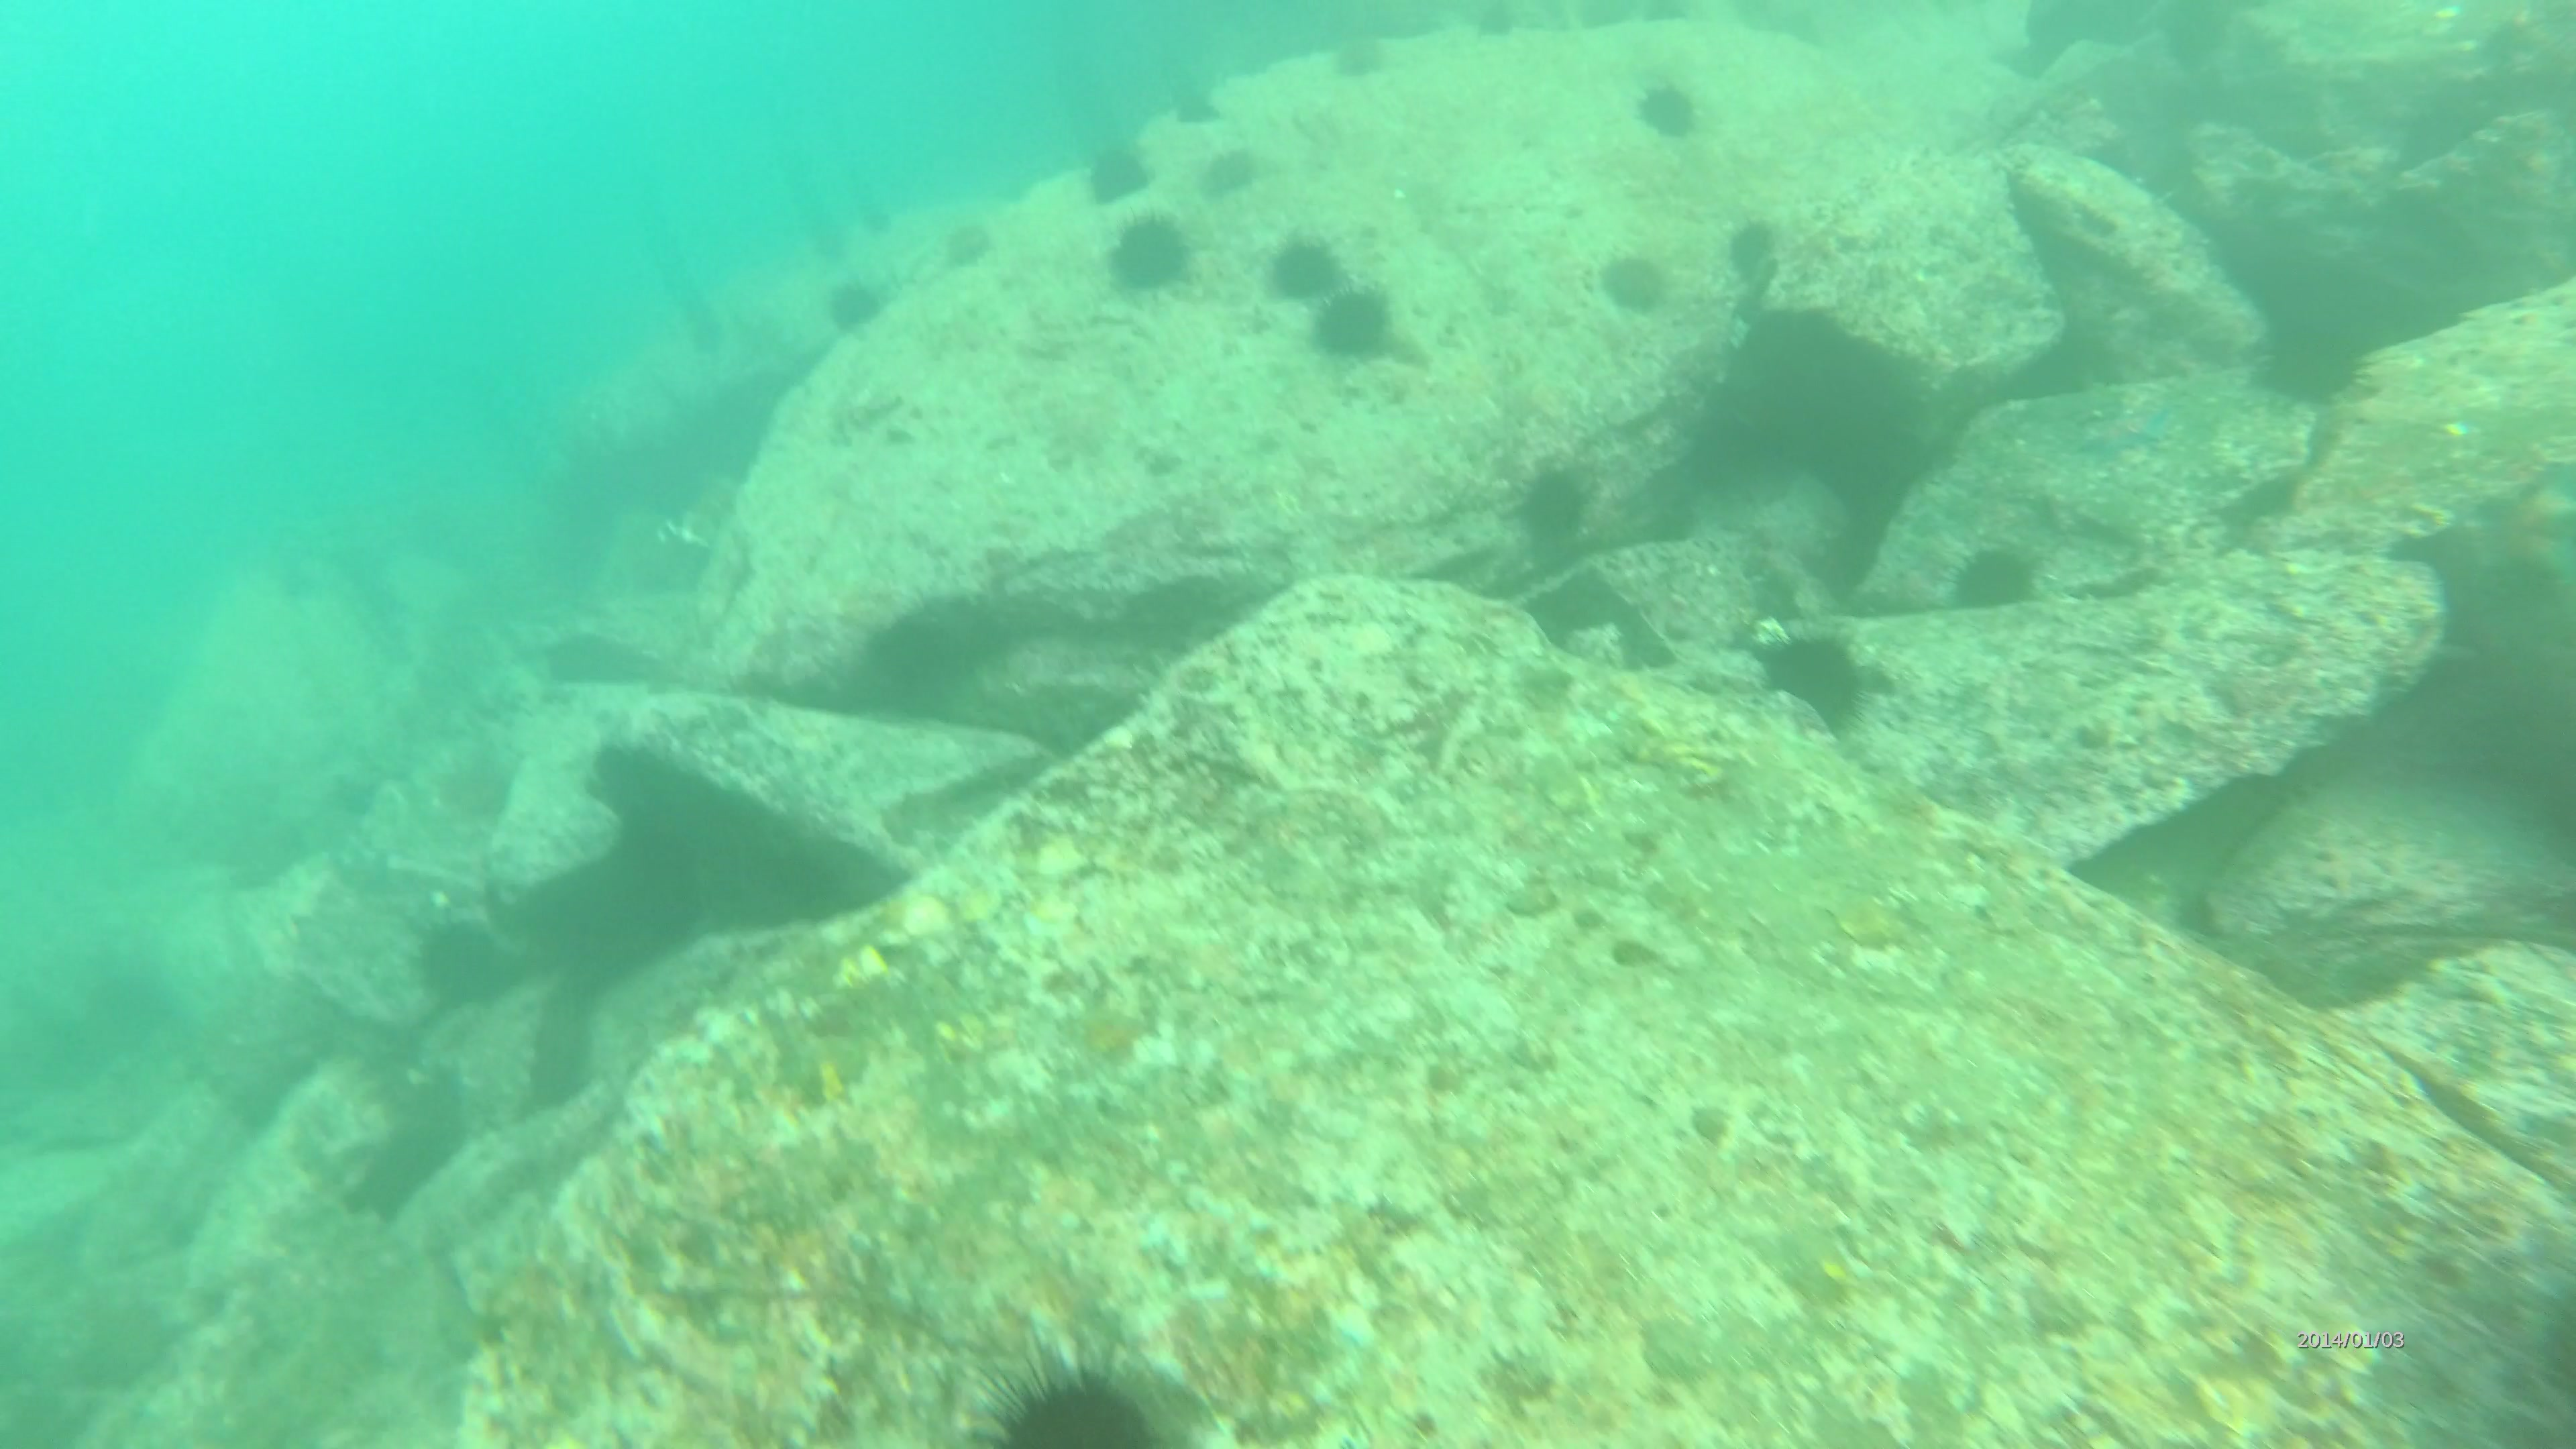echinus: (950, 1336, 1184, 1449), (1759, 630, 1874, 743), (409, 913, 524, 1005), (1108, 202, 1203, 308), (1313, 271, 1398, 370), (1516, 462, 1594, 570), (812, 260, 904, 350), (1072, 129, 1161, 209), (1946, 547, 2043, 617), (1591, 248, 1683, 322), (1628, 73, 1704, 152), (1725, 205, 1790, 287), (1274, 230, 1350, 299), (932, 216, 1010, 272), (1196, 142, 1276, 193), (1330, 32, 1394, 87), (1467, 0, 1536, 50), (1180, 73, 1230, 129)
